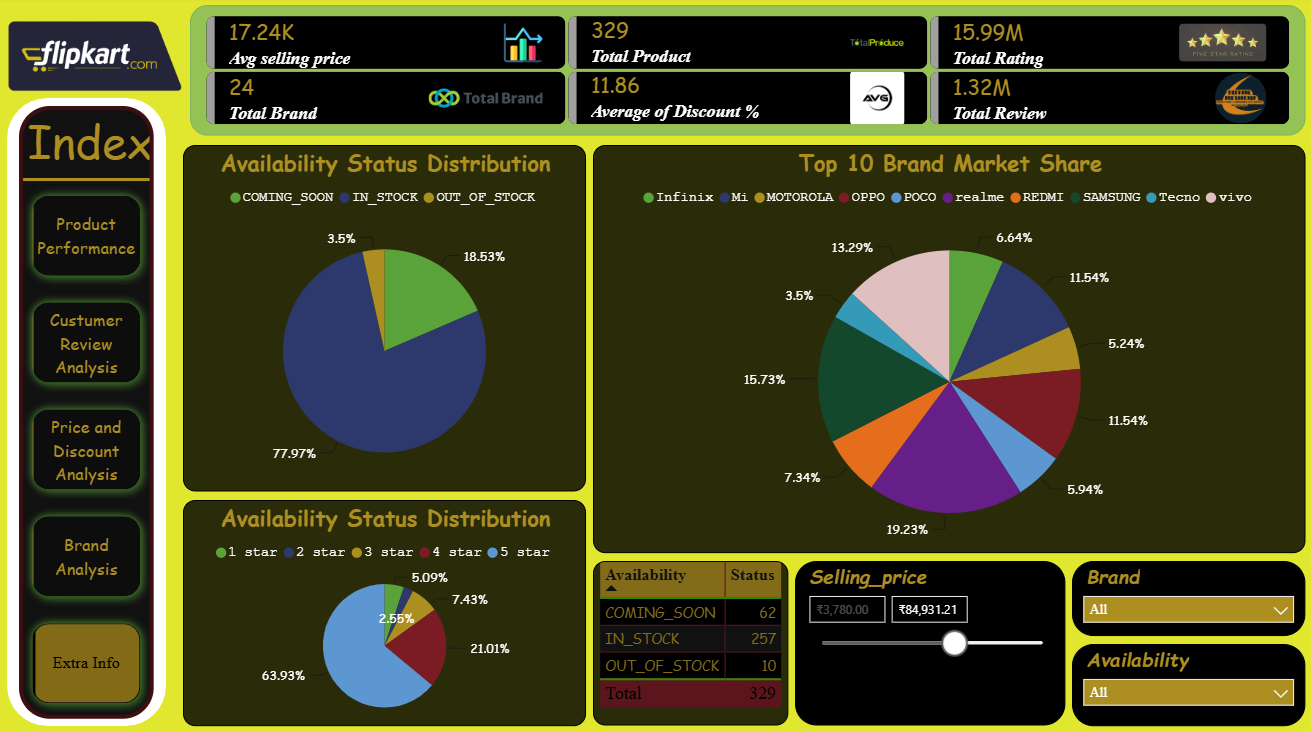

The dashboard page shown, as its layout file describes it:
{"tool":"powerbi","page":{"name":"Extra Info","canvas":[1280,720],"ordinal":4},"visuals":[{"type":"shape","box":[9.7,98.2,154.7,610.8],"z":0},{"type":"image","box":[9.7,0,178,114.8],"z":1000},{"type":"cardVisual","fields":{"Data":["flipkart_smartphones_2022_03_26_2333_IST.Avg selling price","flipkart_smartphones_2022_03_26_2333_IST.Total Product","flipkart_smartphones_2022_03_26_2333_IST.Total Rating","flipkart_smartphones_2022_03_26_2333_IST.Total Brand","Avg(flipkart_smartphones_2022_03_26_2333_IST.Discount %)","flipkart_smartphones_2022_03_26_2333_IST.Total Review"]},"box":[187.7,7.8,1085.5,127.4],"z":2000},{"type":"slicer","fields":{"Values":["flipkart_smartphones_2022_03_26_2333_IST.brand"]},"box":[1046,549,227,72],"z":3000},{"type":"slicer","fields":{"Values":["flipkart_smartphones_2022_03_26_2333_IST.availability"]},"box":[1046,631,227,71],"z":4000},{"type":"slicer","fields":{"Values":["flipkart_smartphones_2022_03_26_2333_IST.selling_price"]},"box":[776,549,263,160],"z":5000},{"type":"pageNavigator","title":"Index","box":[21,106,131,596],"z":6000},{"type":"pieChart","title":"Top 10 Brand Market Share","fields":{"Y":["CountNonNull(flipkart_smartphones_2022_03_26_2333_IST.brand)"],"Series":["flipkart_smartphones_2022_03_26_2333_IST.brand"]},"box":[579.7,144,693.5,396.8],"z":7000},{"type":"pieChart","title":"Availability Status Distribution","fields":{"Series":["flipkart_smartphones_2022_03_26_2333_IST.availability"],"Y":["CountNonNull(flipkart_smartphones_2022_03_26_2333_IST.availability)"]},"box":[181,144,392,337],"z":8000},{"type":"pieChart","title":"Availability Status Distribution","fields":{"Y":["Sum(Star Ratings.RatingCount)"],"Series":["Star Ratings.Rating"]},"box":[181,489,392,220],"z":9000},{"type":"tableEx","fields":{"Values":["flipkart_smartphones_2022_03_26_2333_IST.availability","CountNonNull(flipkart_smartphones_2022_03_26_2333_IST.availability)"]},"box":[580,549,190,160],"z":10000}]}

Visuals, with their boxes in screenshot pixels (x1, y1, x2, y2), scaled from the page's 1280x720 canvas onto the 1311x732 screenshot:
shape: 10:100:168:721
image: 10:0:192:117
cardVisual - flipkart_smartphones_2022_03_26_2333_IST.Avg selling price x flipkart_smartphones_2022_03_26_2333_IST.Total Product: 192:8:1304:137
slicer - flipkart_smartphones_2022_03_26_2333_IST.brand: 1071:558:1304:631
slicer - flipkart_smartphones_2022_03_26_2333_IST.availability: 1071:642:1304:714
slicer - flipkart_smartphones_2022_03_26_2333_IST.selling_price: 795:558:1064:721
"Index" pageNavigator: 22:108:156:714
"Top 10 Brand Market Share" pieChart: 594:146:1304:550
"Availability Status Distribution" pieChart: 185:146:587:489
"Availability Status Distribution" pieChart: 185:497:587:721
tableEx - flipkart_smartphones_2022_03_26_2333_IST.availability x CountNonNull(flipkart_smartphones_2022_03_26_2333_IST.availability): 594:558:789:721
